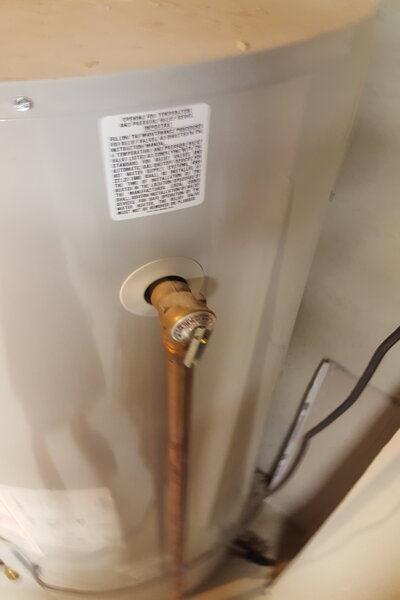valve: (144, 275, 218, 391)
